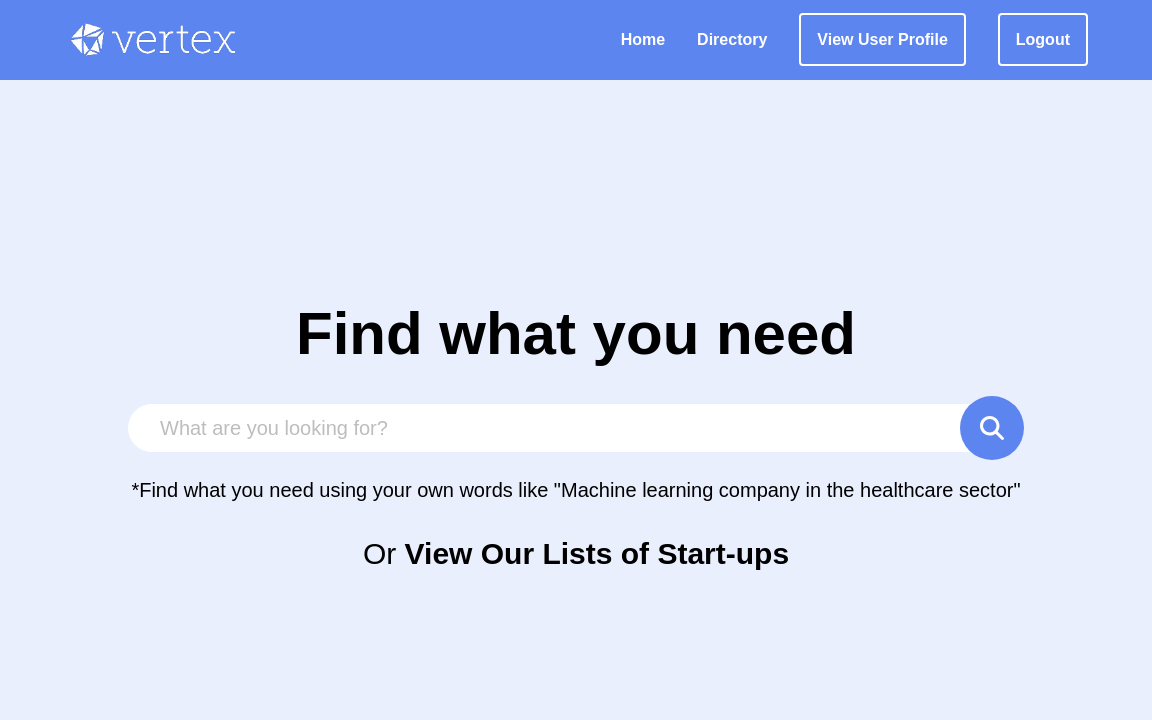
Scenario: Testing Routing › Clicking on View User Profile button navigates to VIEW_USER_PROFILE page with user profile fields
The width and height of the screenshot is (1152, 720).
Step 1. Click the link "View User Profile" → (883, 40), box [799,13,966,66]
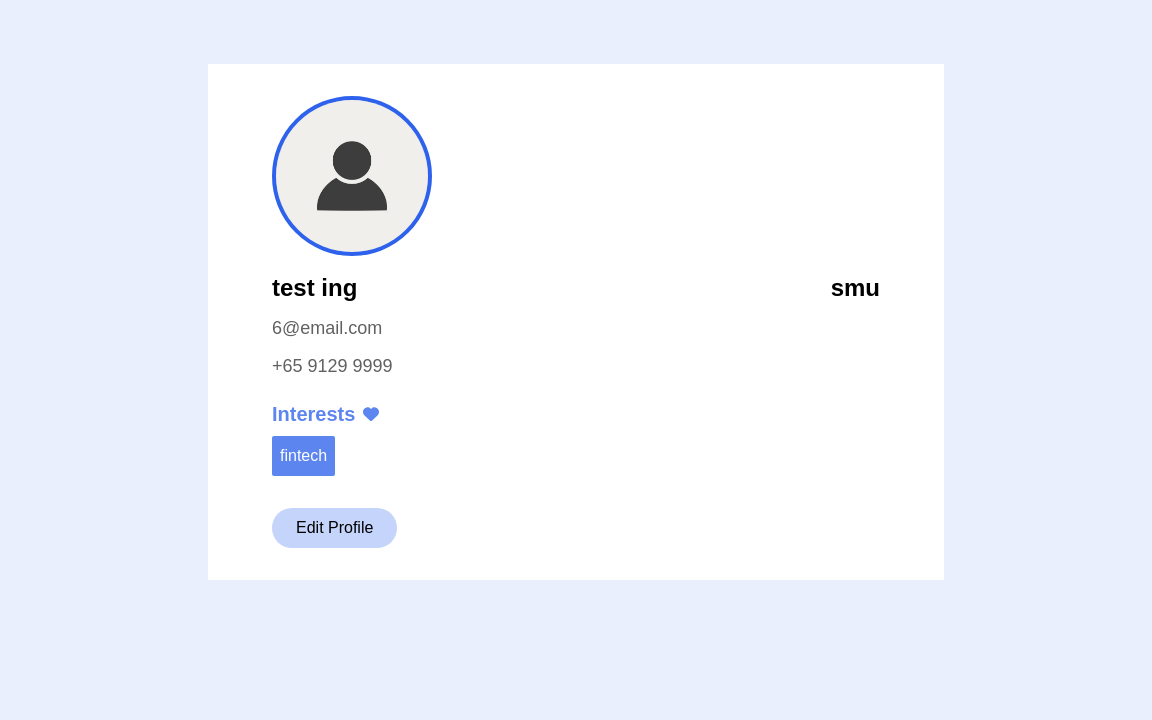
Now the heading with test id "fullName" reads "test ing", box [272,272,357,314]
Now the text with test id "email" reads "6@email.com", box [272,318,382,338]
Now the text with test id "company" reads "smu", box [831,274,880,301]
